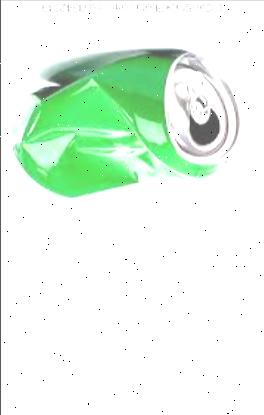Can: (7, 47, 246, 199)
